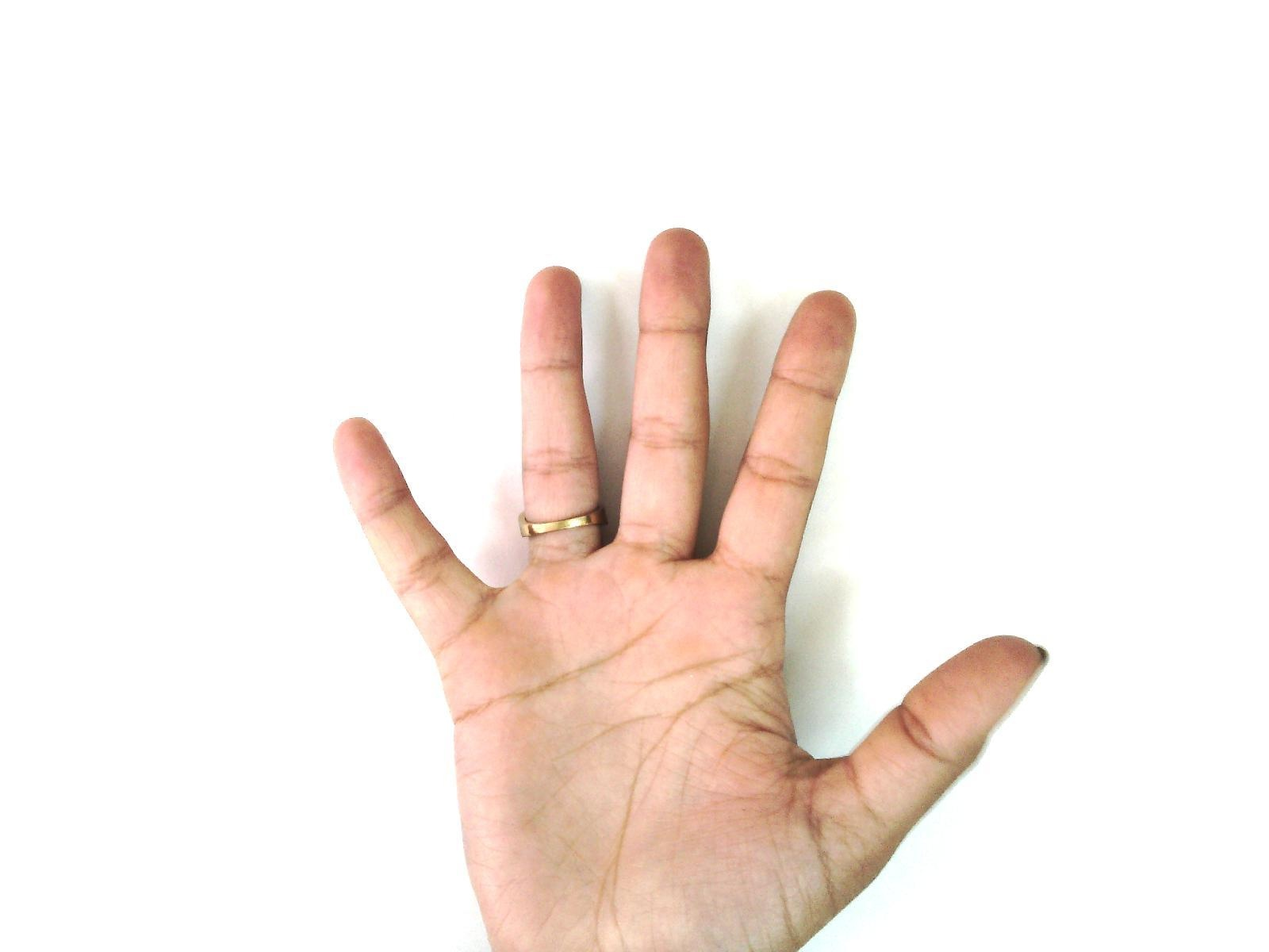open_palm: (331, 226, 1051, 951)
